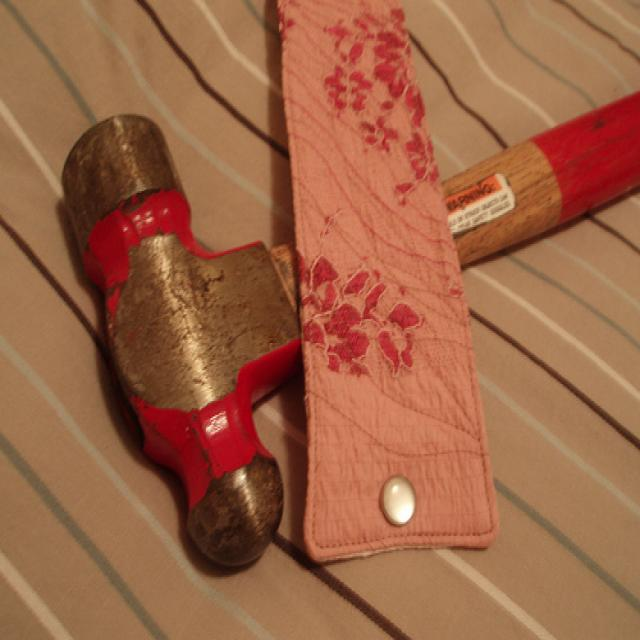hammer: (32, 96, 640, 577)
